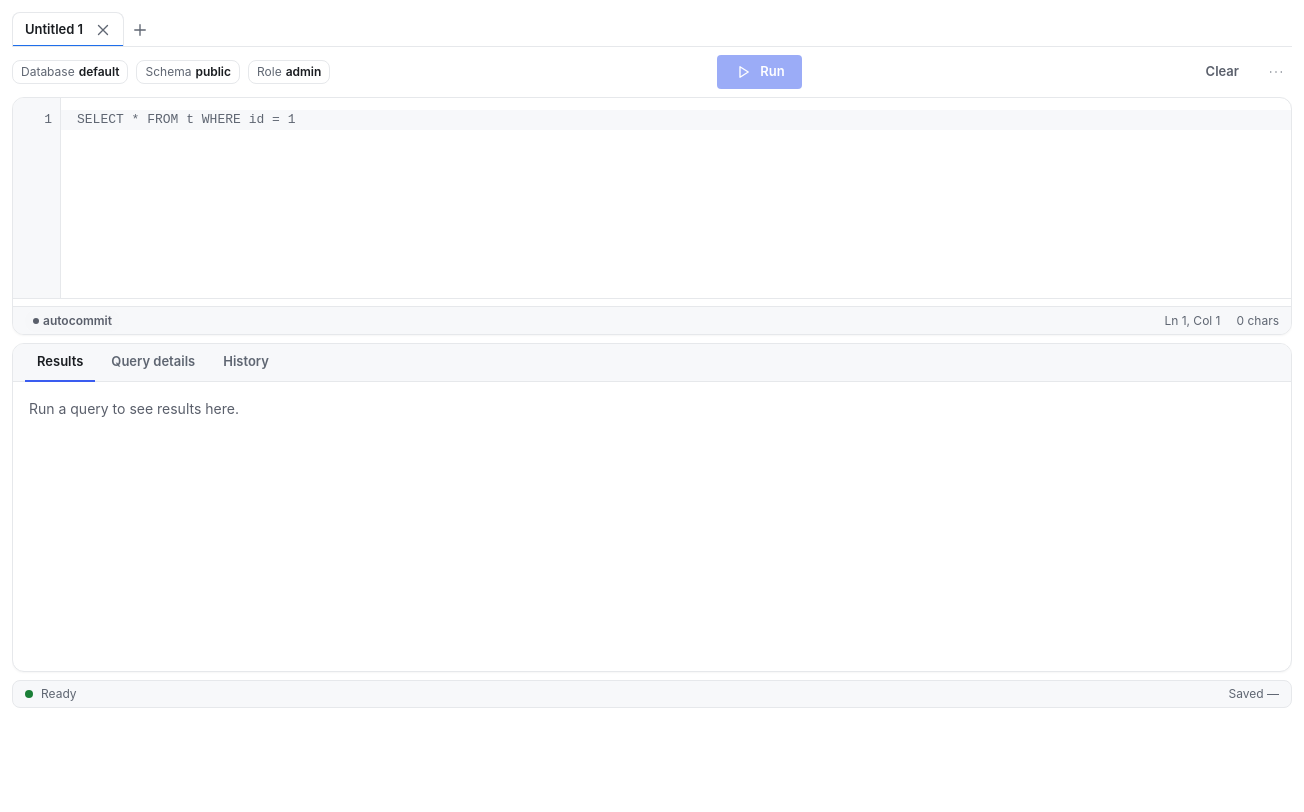
SqlConsolePage › renders a stable API error without a raw stack trace
Type "GARBAGE" into the text box named "SQL".
click(676, 198); type("GARBAGE")  # box [61, 98, 1291, 298]
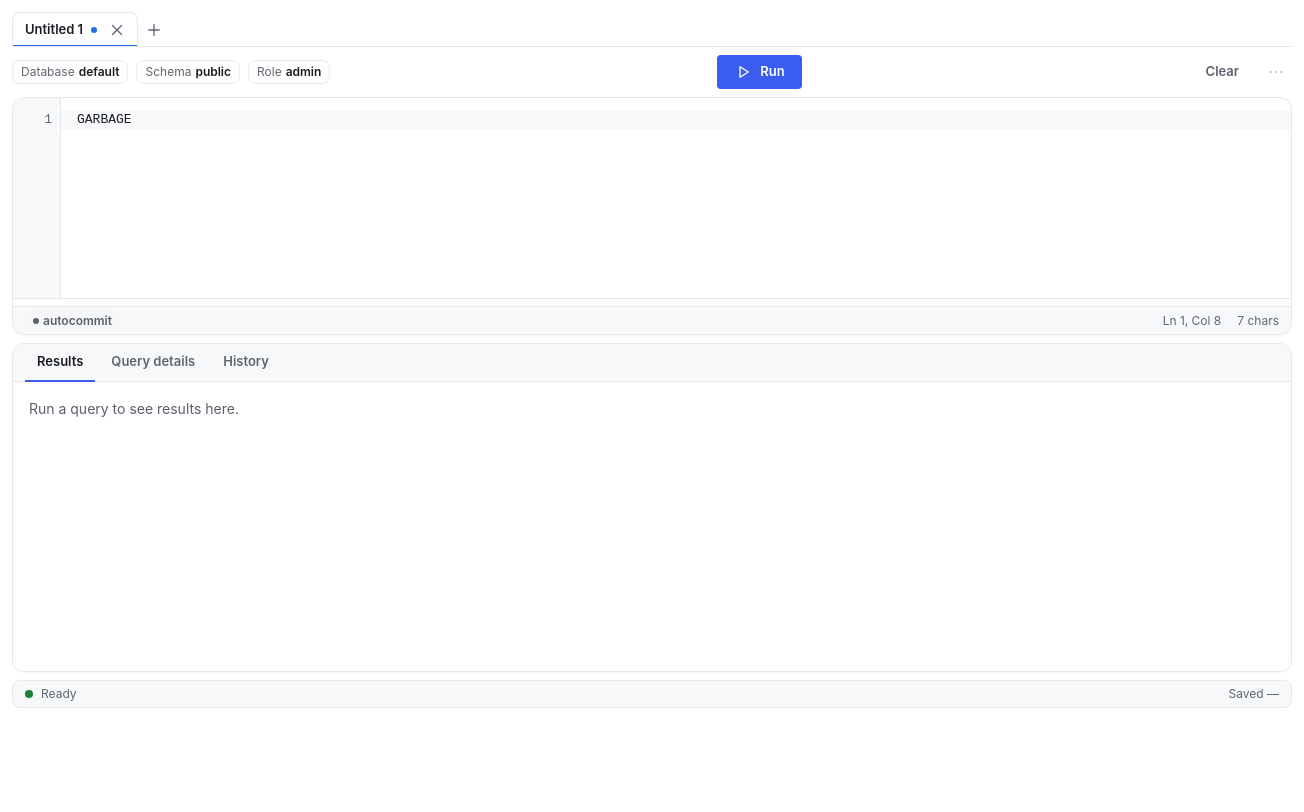
Click the button "Run".
click(760, 72)  # box [717, 55, 802, 89]
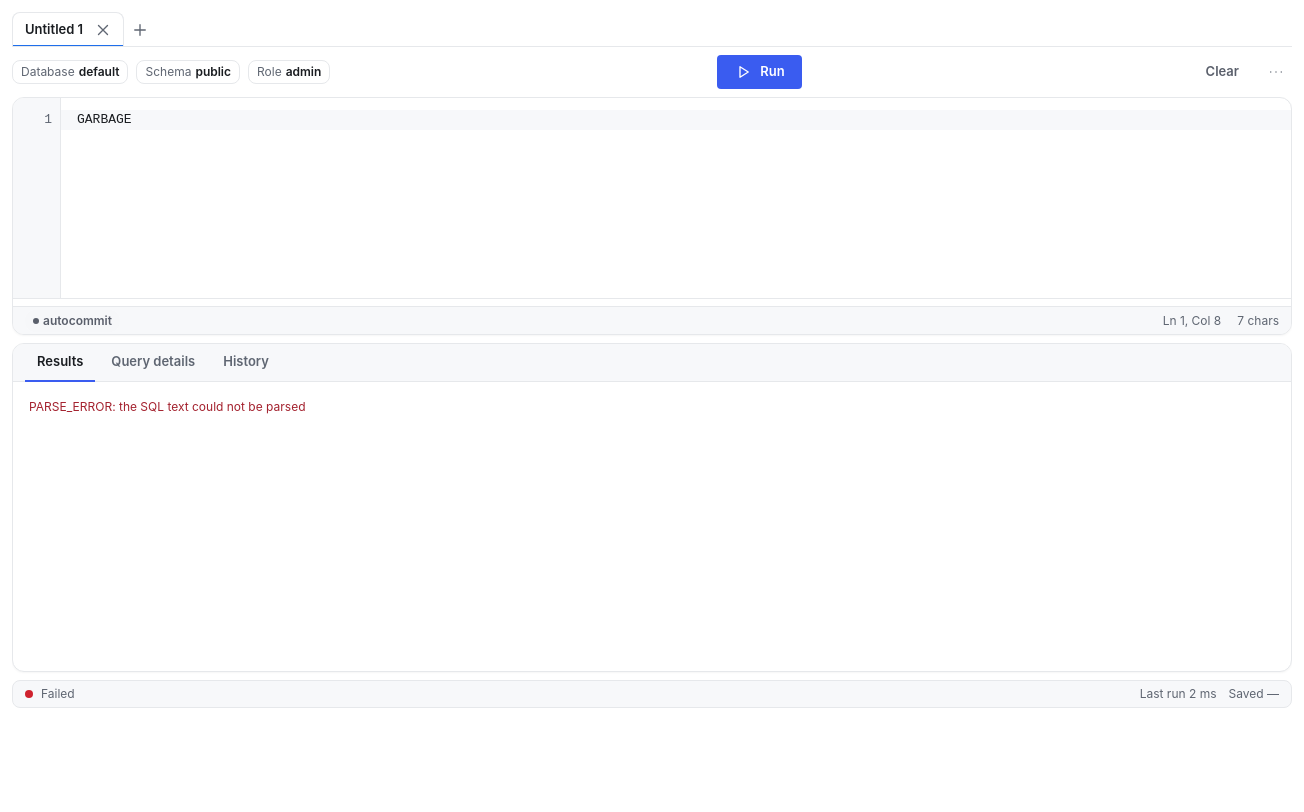
Now the message "PARSE_ERROR: the SQL text could not be parsed" is shown, box [29, 398, 306, 414]
